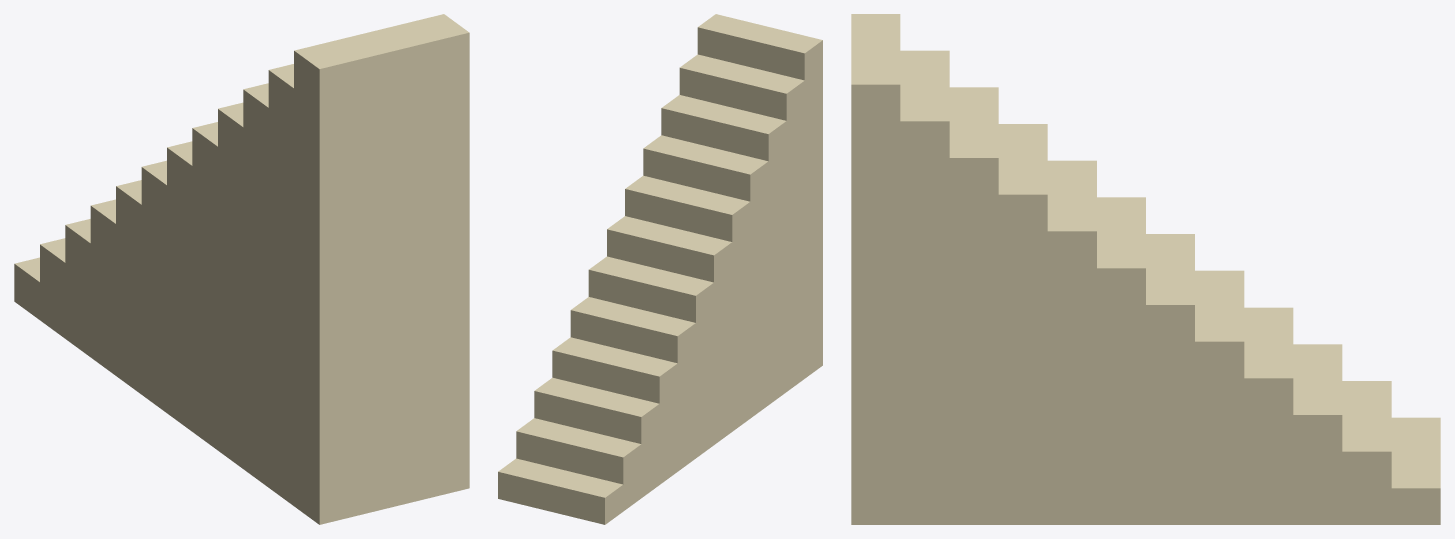
File: stairsstone.glb
3 views of the same model, side by side, from view 1: azimuth 30°, elevation 25°; view 2: azimuth 150°, elevation 25°; view 3: azimuth 270°, elevation 25° (orthographic). The views are drawn at different scales.
Visible parts, largest first — view 1: stairsStone; view 2: stairsStone; view 3: stairsStone.
Part boxes in pixels (box(x1,y1,x2,y2)): stairsStone: box(14, 14, 469, 524); stairsStone: box(498, 14, 822, 524); stairsStone: box(851, 14, 1440, 524).
Size of the model in its own units: 2.33 by 6.75 by 8.19.
